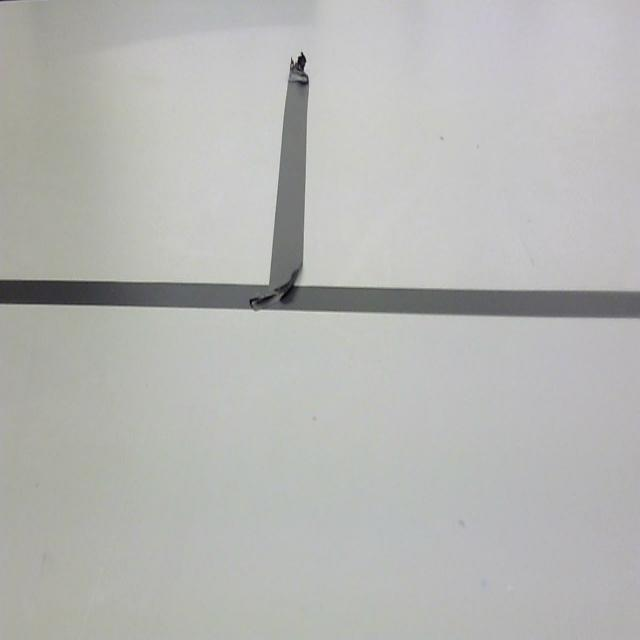tape: (0, 42, 640, 351)
